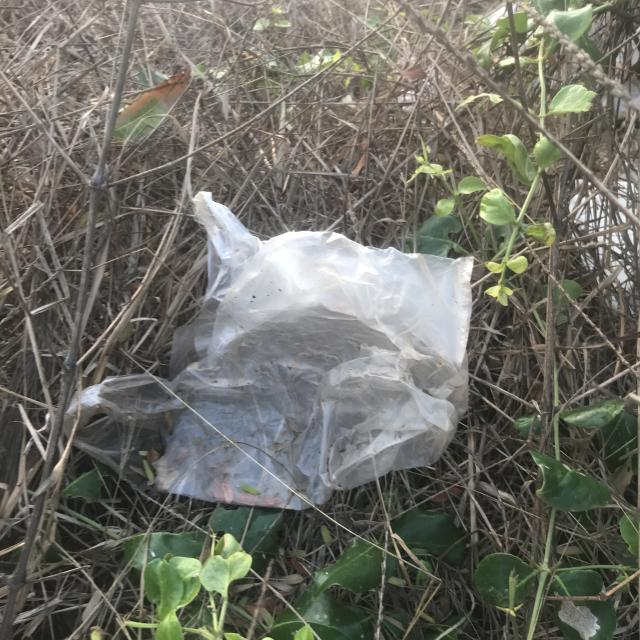Single-layer Plastic: (64, 184, 478, 514)
